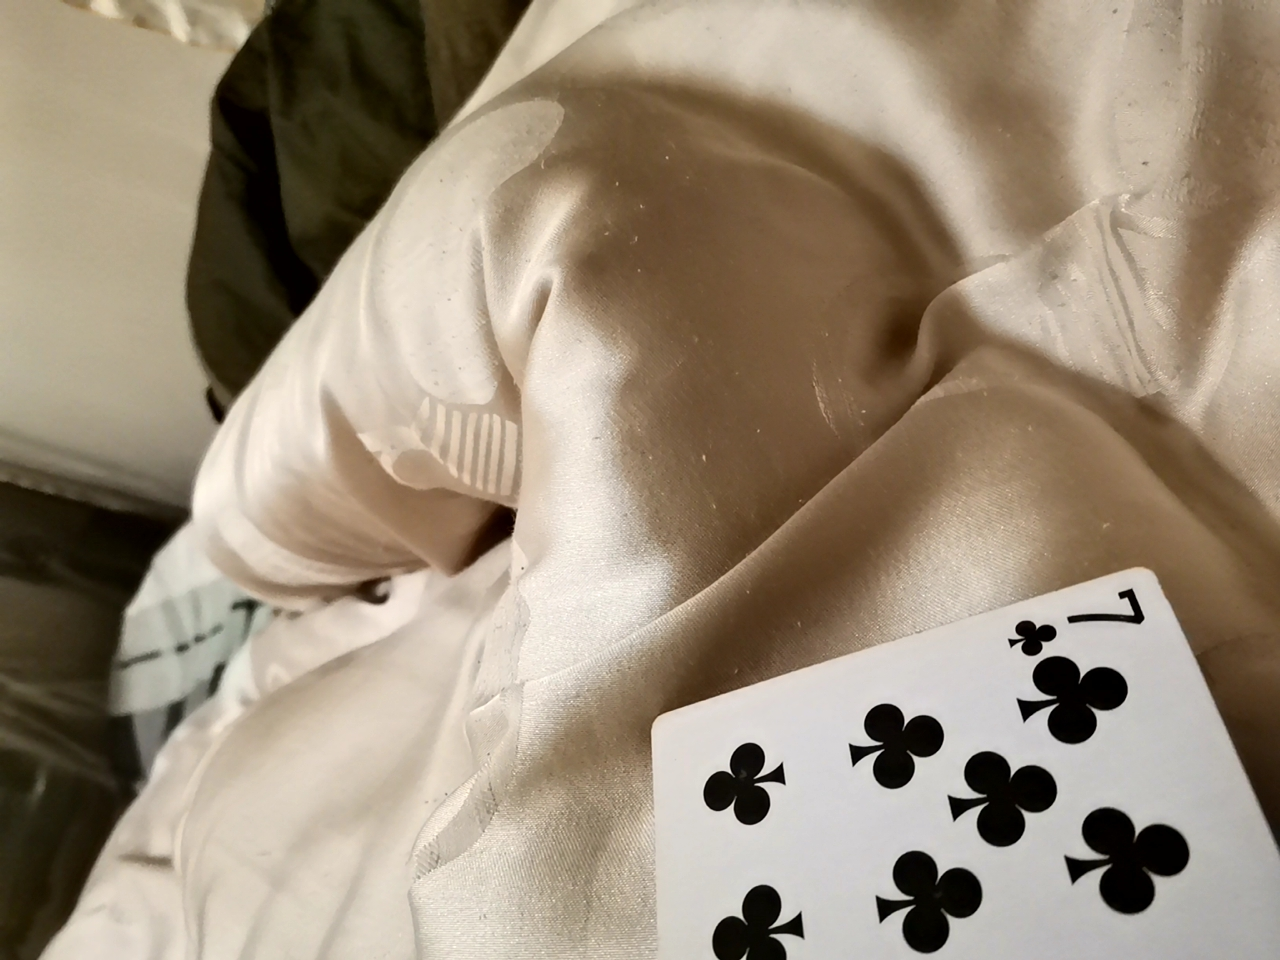mh 7: (616, 570, 1268, 955)
